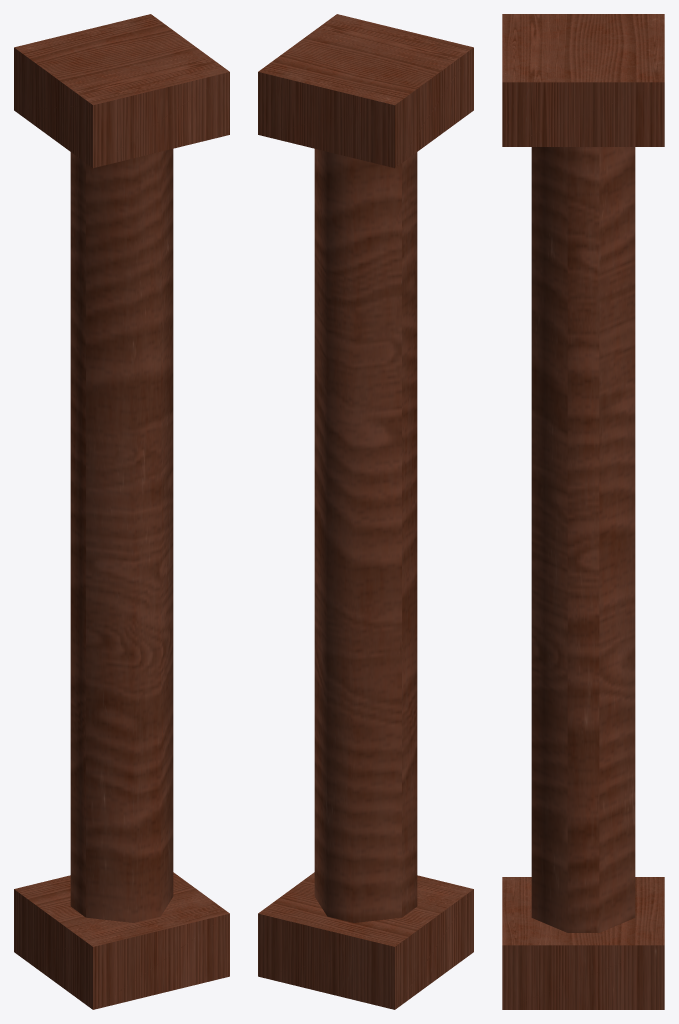
Rendered from SM_Pillar.fbx.
The picture shows the model from 3 angles, left to right: view 1: azimuth 30°, elevation 25°; view 2: azimuth 150°, elevation 25°; view 3: azimuth 270°, elevation 25°; orthographic projection. The views are drawn at different scales.
Parts seen in each view (by area): view 1: Cube; view 2: Cube; view 3: Cube.
Part boxes in pixels (x1,y1,x2,y2): Cube: (14, 14, 229, 1009); Cube: (258, 14, 473, 1009); Cube: (502, 14, 664, 1009).
Bounding box in the file's own units: 0.5921 × 3.74 × 0.5921.
